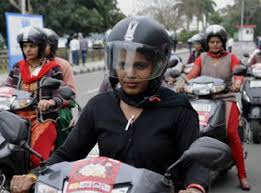helmet: (99, 9, 173, 98), (192, 17, 235, 57), (16, 20, 55, 63)
